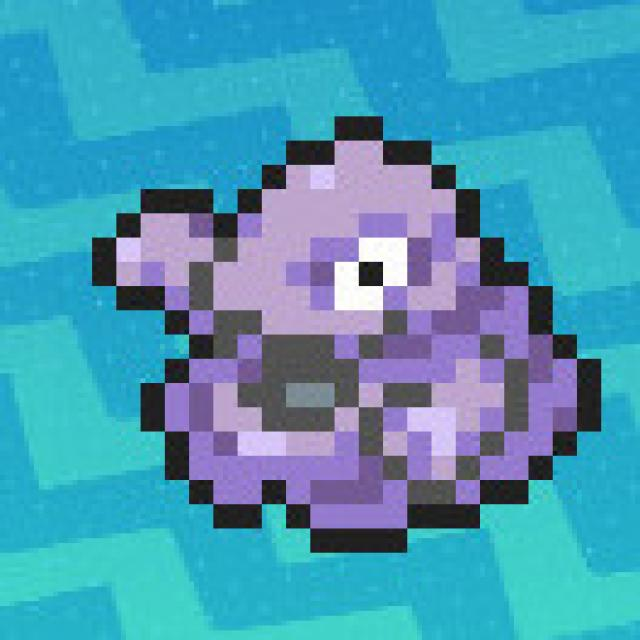Grimer: (95, 102, 609, 561)
